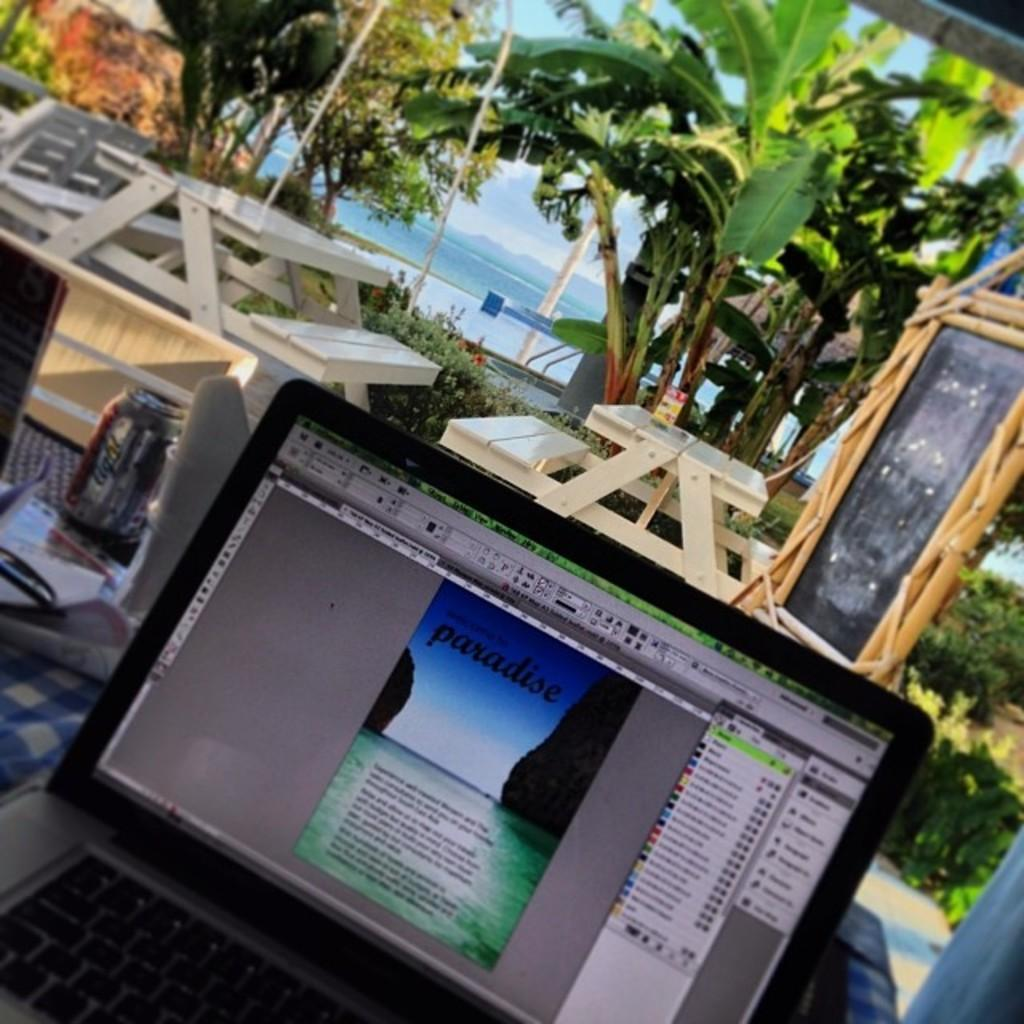Laptop: (50, 293, 886, 1019)
